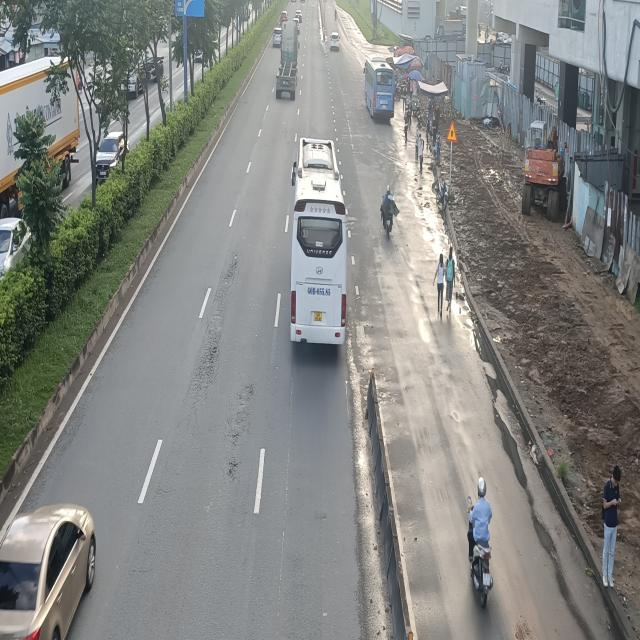coach: (292, 134, 353, 347), (365, 56, 396, 121)
container: (276, 19, 299, 100)
